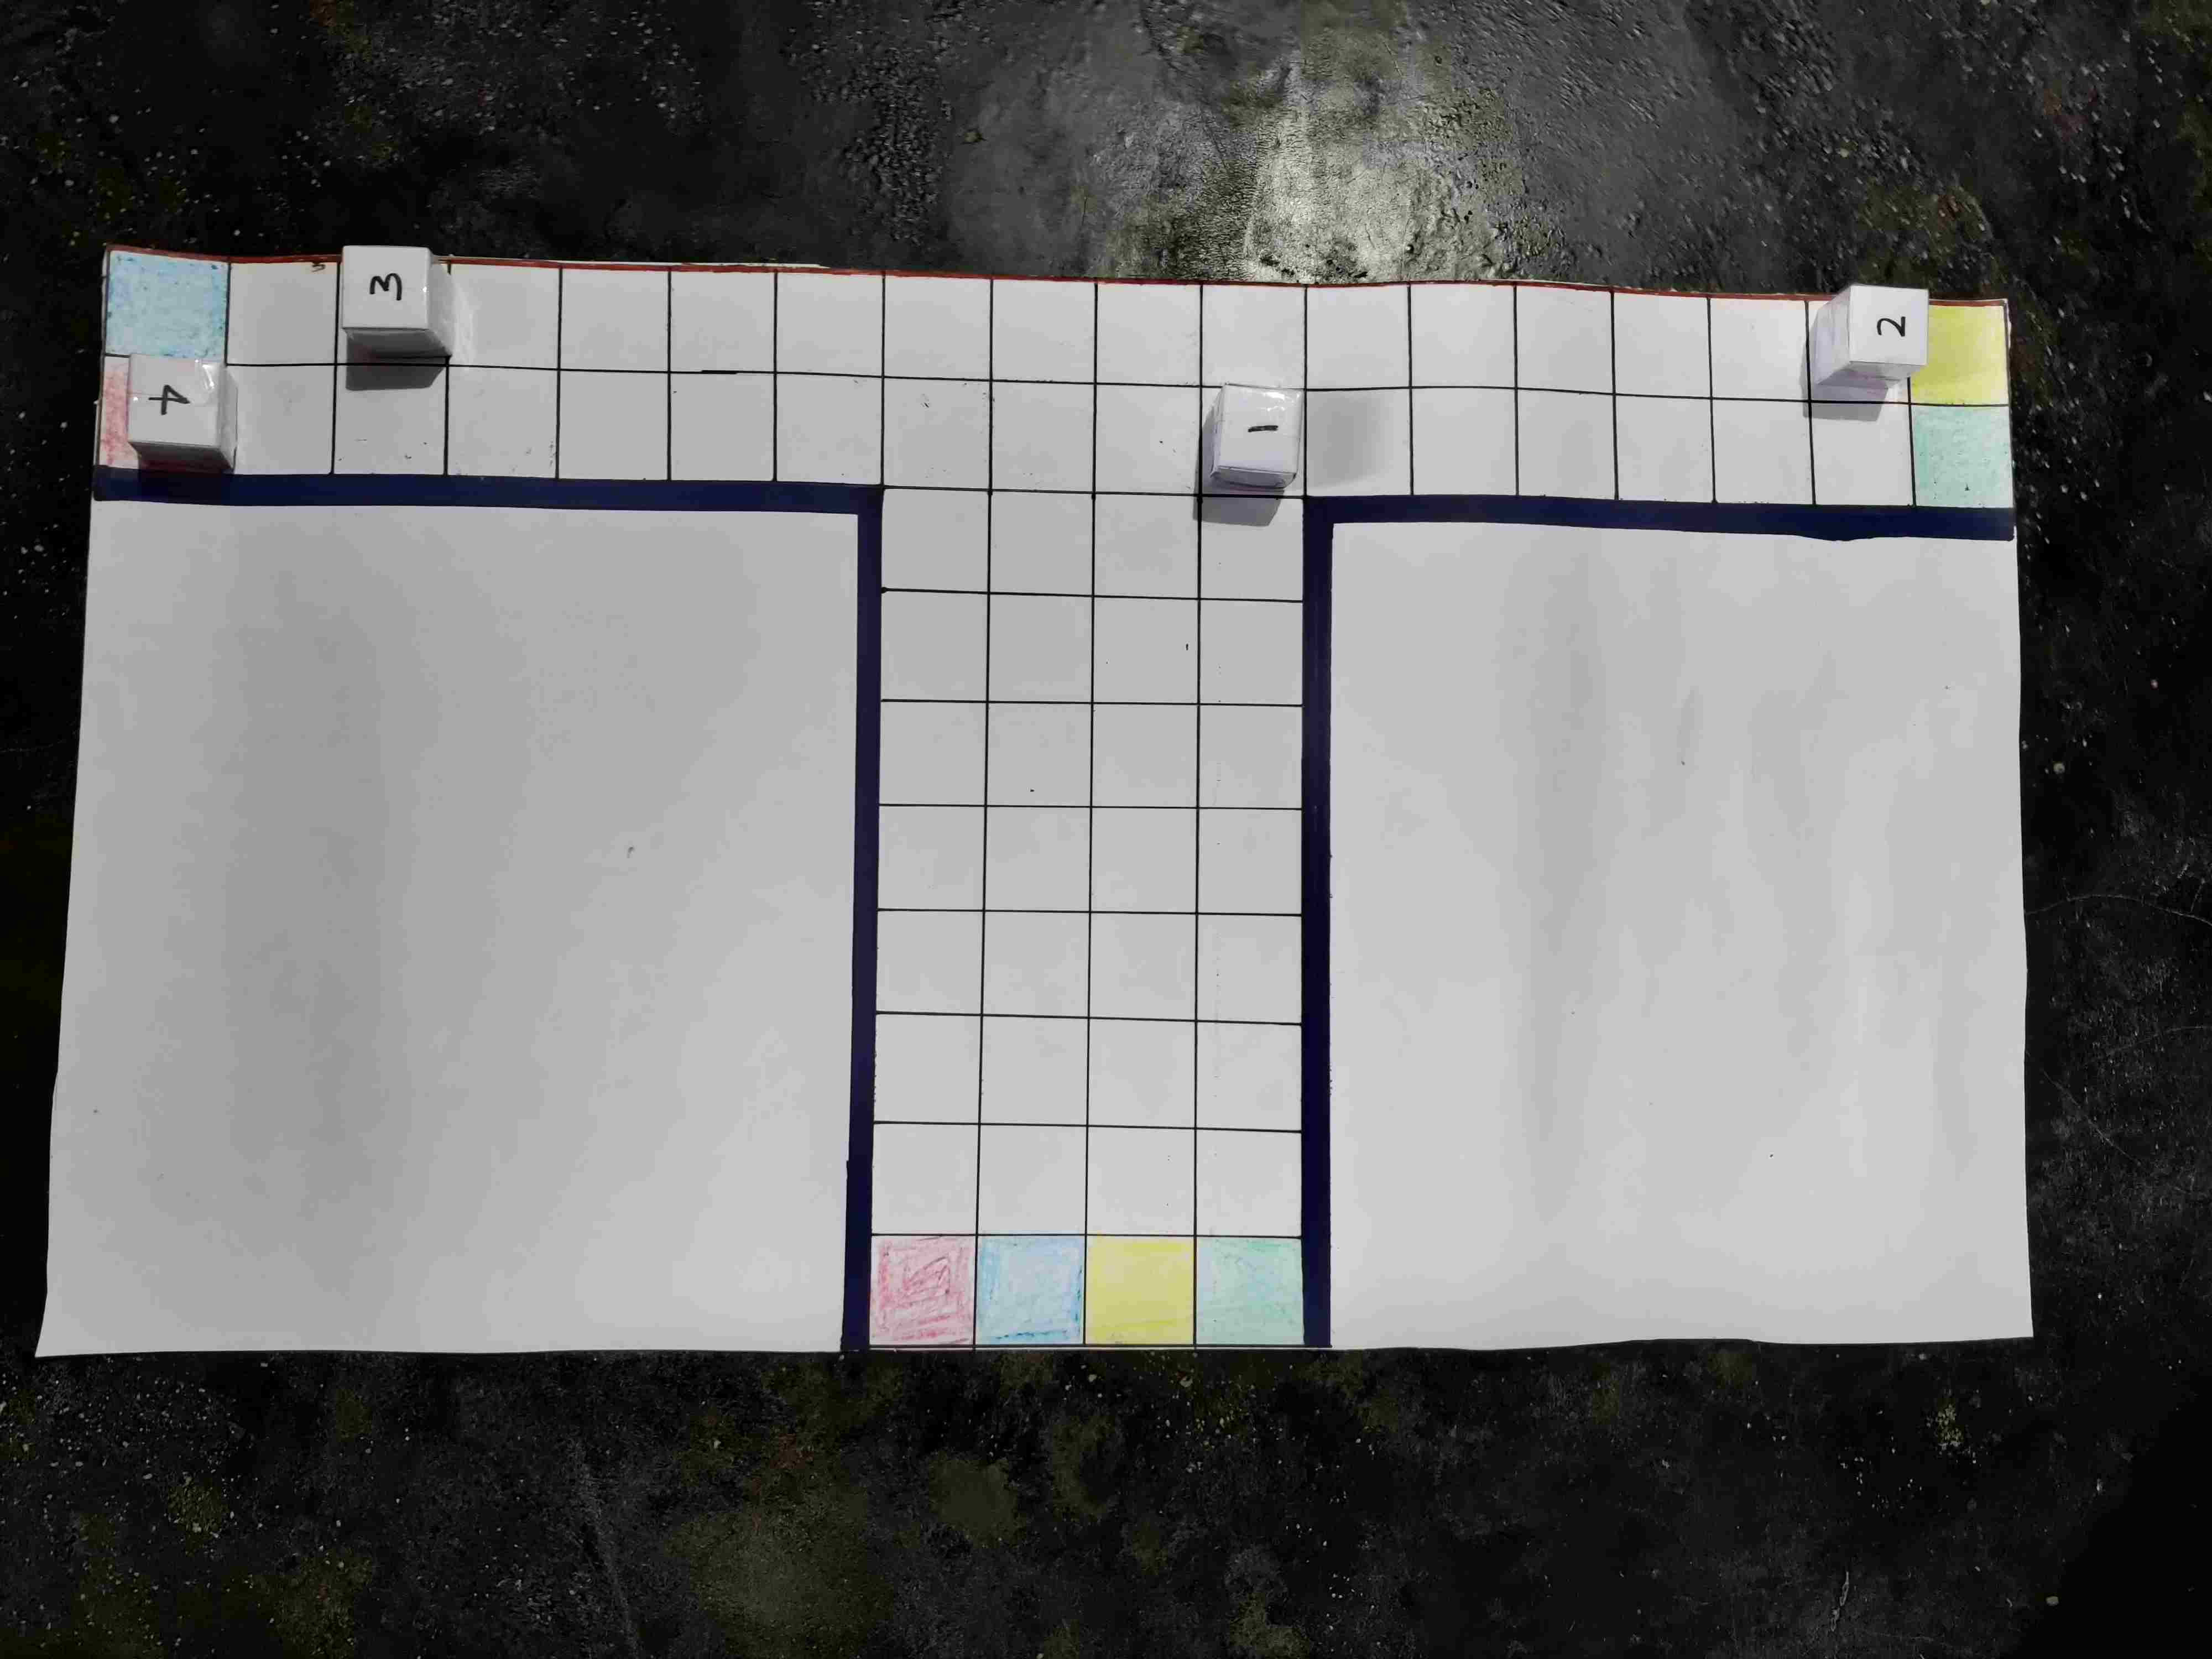arena: (42, 331, 1986, 1424)
bot: (1813, 1230, 1909, 1310), (556, 1358, 643, 1443), (1474, 1344, 1554, 1434), (430, 1230, 509, 1314)
